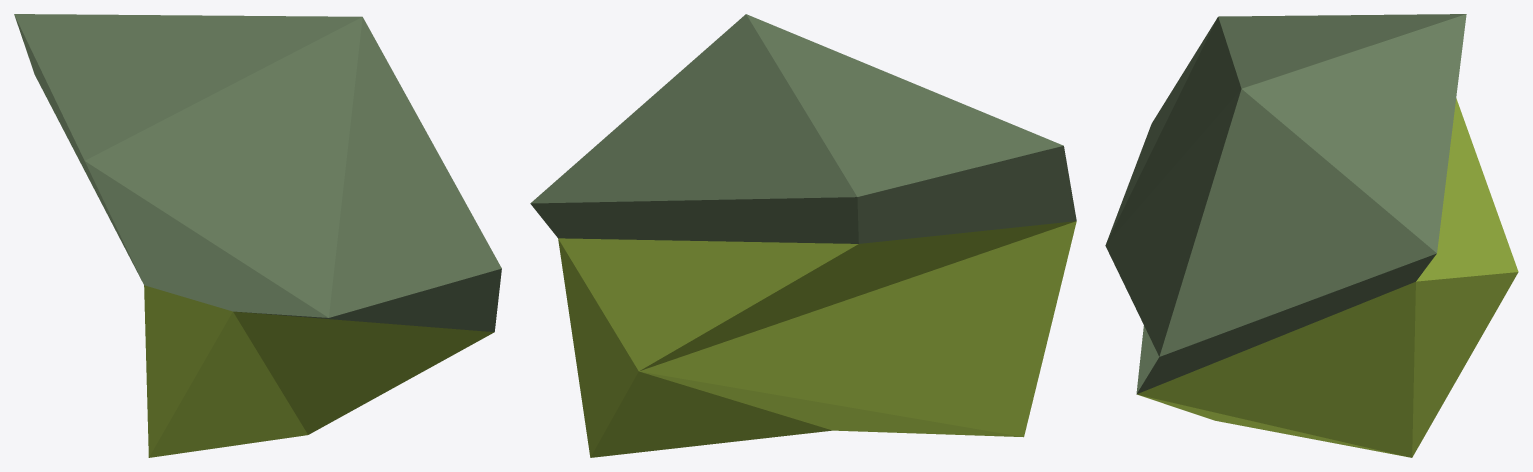
Rendered from Gib_2.fbx.
3 views of the same model, side by side, from view 1: azimuth 30°, elevation 25°; view 2: azimuth 150°, elevation 25°; view 3: azimuth 270°, elevation 25° (orthographic). The views are drawn at different scales.
Parts seen in each view (by area): view 1: pPlatonic2; view 2: pPlatonic2; view 3: pPlatonic2.
Part boxes in pixels (box(x1,y1,x2,y2)): pPlatonic2: box(14, 14, 501, 457); pPlatonic2: box(530, 14, 1076, 457); pPlatonic2: box(1105, 14, 1518, 457).
Bounding box in the file's own units: 15.57 × 14.87 × 15.34.
